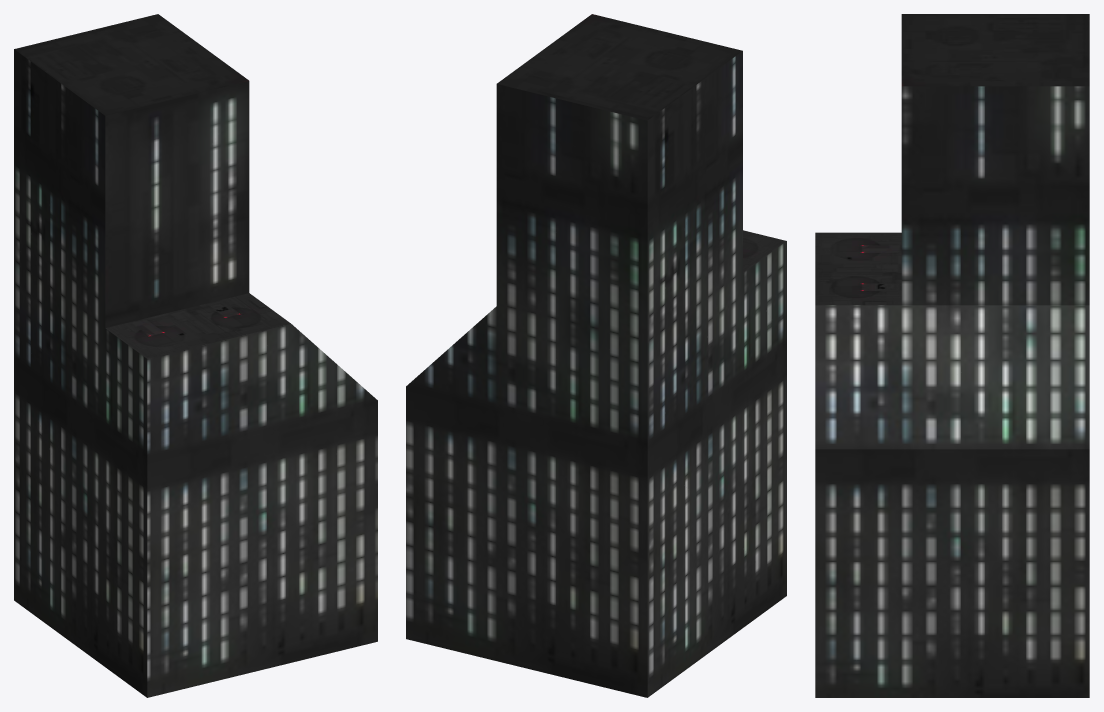
The model's file is scifi_building_1.obj.
The picture shows the model from 3 angles, left to right: view 1: azimuth 30°, elevation 25°; view 2: azimuth 150°, elevation 25°; view 3: azimuth 270°, elevation 25°; orthographic projection. The views are drawn at different scales.
Parts seen in each view (by area): view 1: building_1; view 2: building_1; view 3: building_1.
Part boxes in pixels (x1,y1,x2,y2): building_1: [14, 14, 377, 697]; building_1: [406, 14, 786, 697]; building_1: [815, 14, 1089, 697].
Bounding box in the file's own units: 35 × 79.98 × 35.
1 material, 1 textured.
